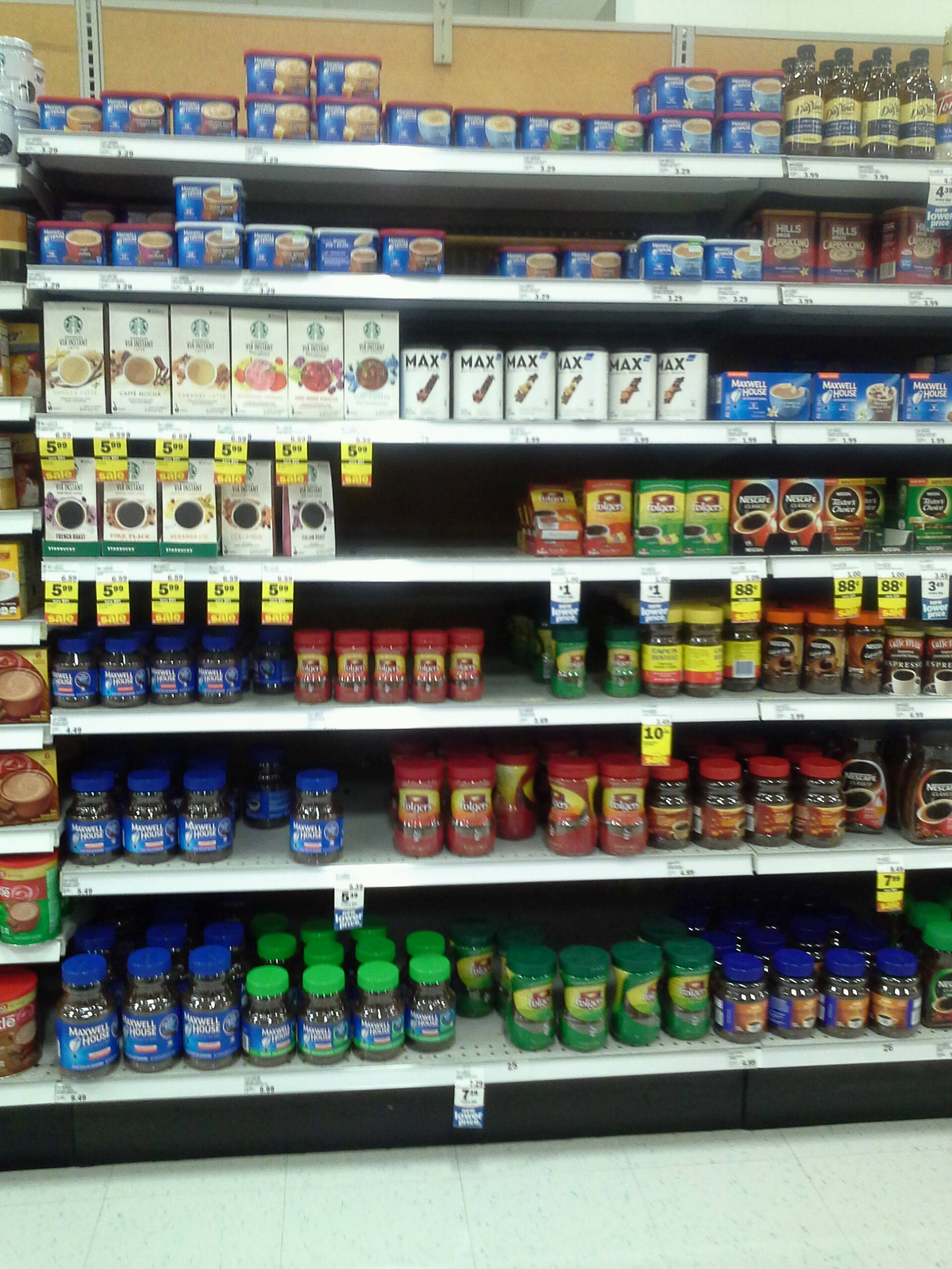Bottle: (900, 40, 936, 162), (823, 45, 862, 157), (863, 42, 900, 159), (786, 40, 823, 157)
Box: (106, 297, 173, 420), (43, 295, 106, 420), (230, 304, 290, 423), (175, 298, 231, 421), (39, 454, 100, 559), (345, 306, 401, 420), (291, 305, 343, 423), (160, 455, 218, 559), (102, 456, 159, 561), (219, 456, 274, 559), (281, 458, 334, 558), (879, 205, 945, 285), (719, 368, 813, 423), (817, 207, 876, 287), (0, 748, 58, 826), (815, 371, 901, 423), (729, 472, 778, 557), (763, 204, 815, 284), (635, 475, 684, 558), (903, 473, 952, 556), (585, 475, 634, 558), (779, 475, 826, 558), (0, 647, 47, 727), (35, 218, 107, 266), (378, 225, 448, 274), (170, 90, 240, 139), (685, 477, 727, 558), (384, 100, 456, 147), (636, 233, 705, 282), (824, 476, 868, 552), (649, 63, 719, 110), (176, 221, 243, 270), (244, 223, 312, 271), (537, 480, 578, 558), (721, 66, 786, 115), (242, 94, 312, 139), (313, 225, 375, 274), (243, 47, 310, 92), (313, 52, 381, 96), (108, 220, 173, 266), (456, 103, 519, 150), (107, 89, 169, 136), (520, 106, 583, 152), (176, 176, 243, 219), (582, 110, 647, 154), (313, 97, 381, 139), (650, 111, 716, 154), (559, 238, 626, 279), (705, 235, 763, 282), (719, 115, 783, 155), (36, 96, 104, 130), (499, 242, 556, 277)
Jar: (55, 956, 119, 1083), (181, 947, 241, 1072), (124, 947, 178, 1080), (559, 941, 613, 1057), (177, 760, 233, 871), (392, 748, 445, 865), (902, 725, 952, 849), (122, 762, 178, 871), (504, 943, 558, 1056), (0, 854, 61, 953), (289, 767, 348, 869), (662, 935, 713, 1048), (845, 722, 892, 843), (67, 766, 120, 871), (613, 940, 663, 1051), (690, 755, 743, 859), (548, 752, 597, 863), (716, 951, 773, 1046), (300, 961, 351, 1067), (242, 967, 296, 1067), (407, 953, 459, 1056), (793, 753, 845, 856), (447, 752, 495, 863), (353, 962, 404, 1064), (597, 756, 646, 860), (743, 753, 792, 856), (822, 945, 875, 1040), (875, 941, 925, 1040), (240, 733, 287, 835), (4, 959, 38, 1088), (452, 342, 506, 423), (773, 950, 820, 1043), (647, 758, 690, 856), (643, 602, 685, 702), (556, 346, 609, 423), (762, 602, 804, 699), (496, 747, 539, 840), (686, 598, 725, 700), (401, 344, 451, 423), (505, 345, 556, 422), (725, 594, 762, 699), (609, 346, 658, 423), (806, 604, 846, 698), (659, 346, 709, 421), (99, 637, 147, 711), (147, 635, 196, 706), (845, 605, 882, 699), (198, 634, 246, 706), (51, 638, 97, 710), (550, 620, 591, 700), (883, 624, 925, 702), (461, 927, 497, 1017), (294, 626, 334, 706), (926, 914, 952, 1037), (372, 626, 411, 707), (604, 624, 643, 702), (412, 627, 448, 710), (335, 628, 373, 706), (448, 625, 484, 705), (252, 632, 293, 695), (926, 619, 952, 700)
